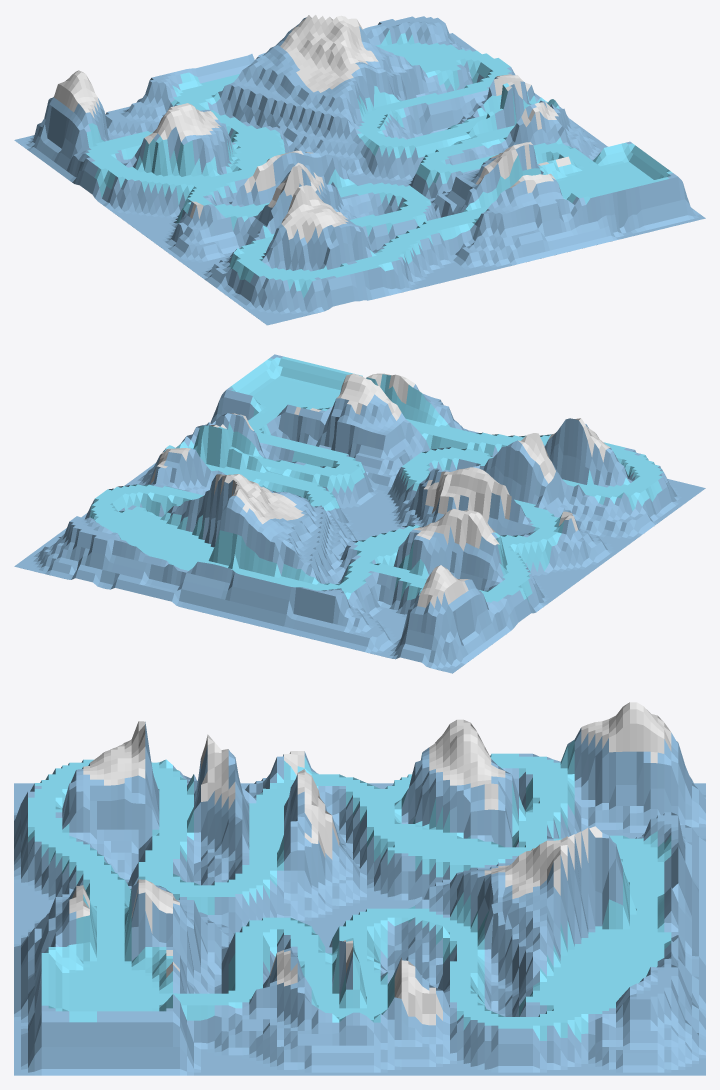
File: SnowTrack.fbx
3 views of the same model, one above another, from view 1: azimuth 30°, elevation 25°; view 2: azimuth 150°, elevation 25°; view 3: azimuth 270°, elevation 25° (orthographic). The views are drawn at different scales.
Parts seen in each view (by area): view 1: Grid.005; view 2: Grid.005; view 3: Grid.005.
Boxes of the visible parts, x1,y1,x2,y2 form: Grid.005: (14, 15, 705, 325); Grid.005: (14, 354, 705, 673); Grid.005: (14, 702, 705, 1075).
Bounding box in the file's own units: 10000 × 2049 × 10000.
